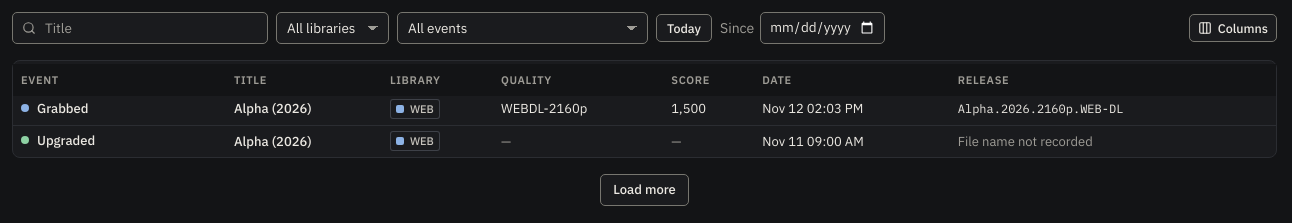
it: shows quality and score in cells, a dash where the event has none, and no day headings; Load more asks for the next cursor
This screenshot has width=1292, height=223.
Expected: the number of rows with test id "history-row" is 2, [13,93,1276,125]; [13,125,1276,157]
Expected: the cell "WEBDL-2160p" is shown, [493,93,663,125]
Click the button "Load more": (645, 190) [600,174,689,206]
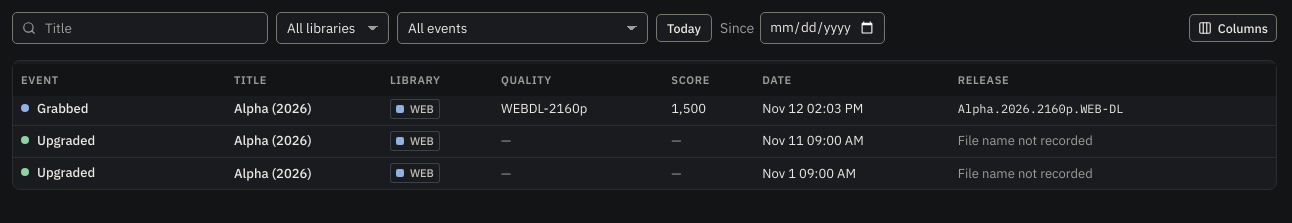
Result: the number of rows with test id "history-row" is 3 at [13,93,1276,125]; [13,125,1276,157]; [13,157,1276,189]
